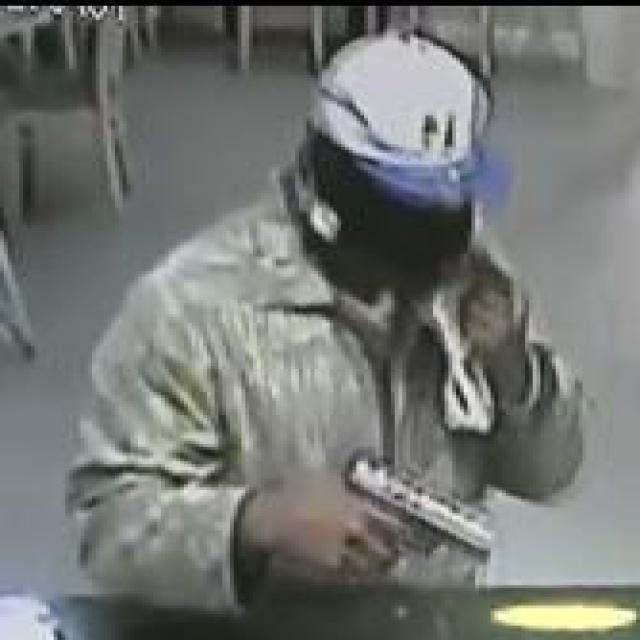gun: (338, 456, 490, 574)
